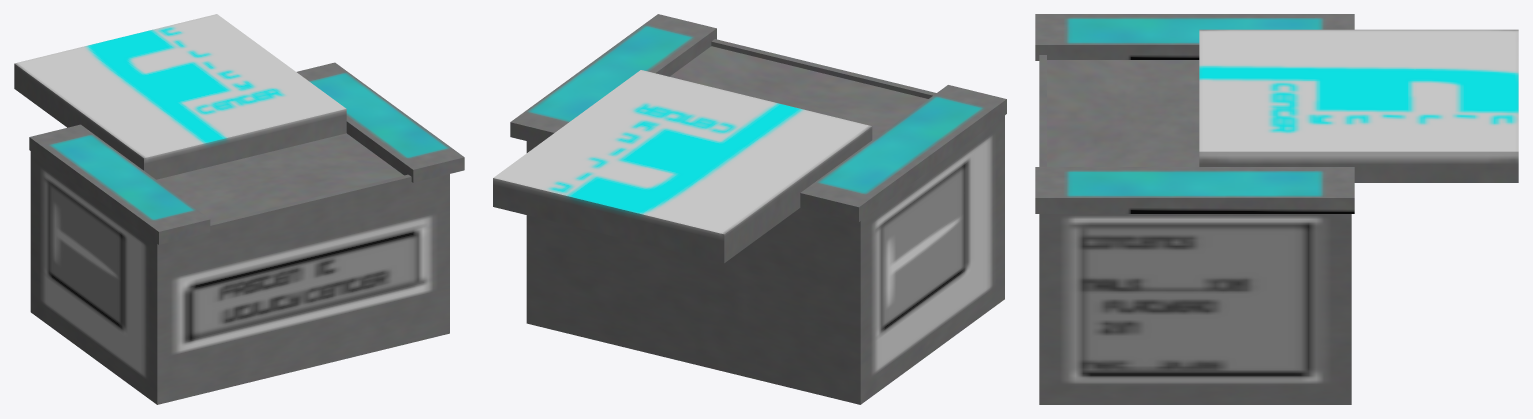
The model's file is NailBox_Open.fbx.
The picture shows the model from 3 angles, left to right: view 1: azimuth 30°, elevation 25°; view 2: azimuth 150°, elevation 25°; view 3: azimuth 270°, elevation 25°; orthographic projection. The views are drawn at different scales.
Parts seen in each view (by area): view 1: Small_Box; view 2: Small_Box; view 3: Small_Box.
Part boxes in pixels (x1,y1,x2,y2): Small_Box: (14,14,464,404); Small_Box: (493,14,1006,404); Small_Box: (1035,14,1518,404).
Size of the model in its own units: 27.21 by 15.86 by 30.23.
